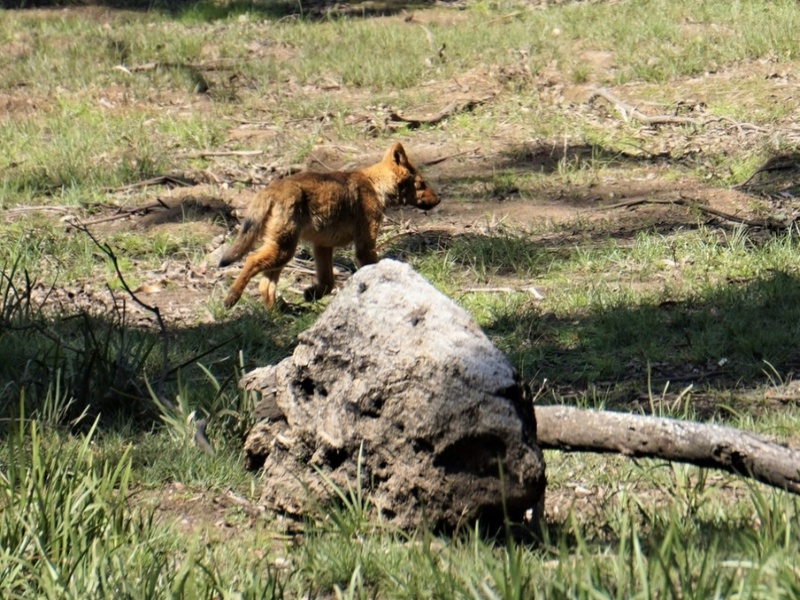dog: (218, 143, 445, 330)
